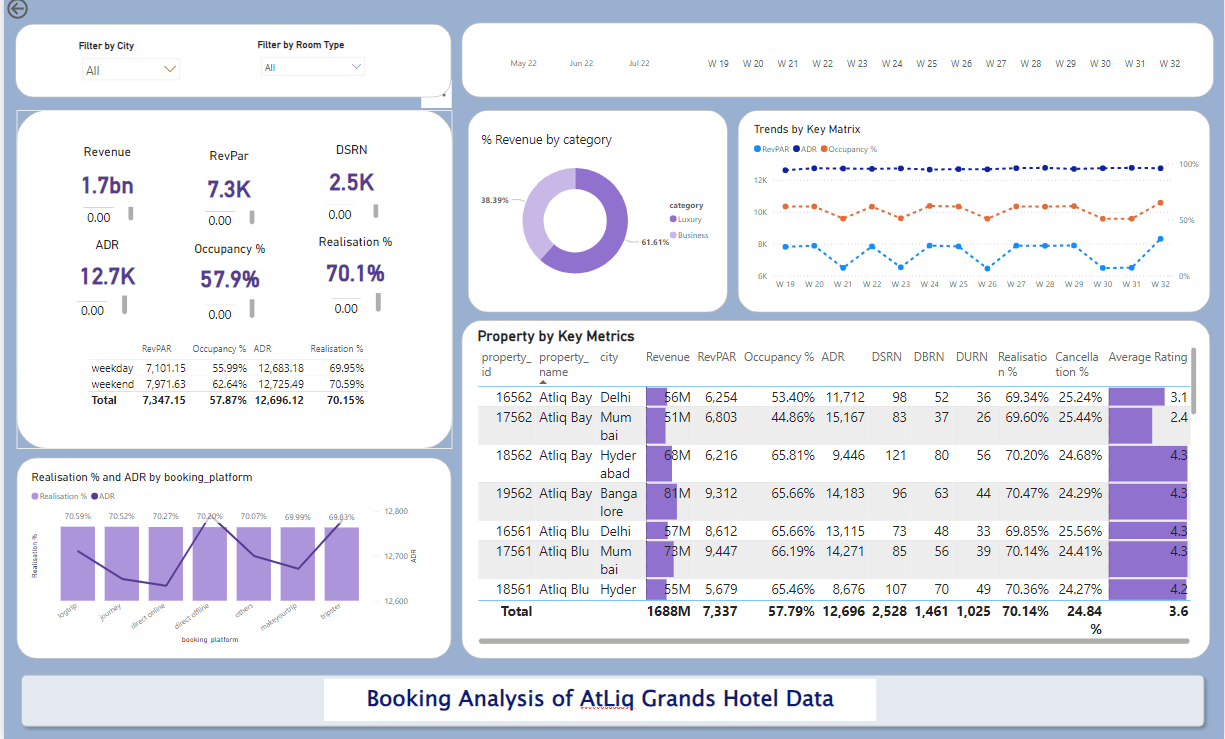

The dashboard page shown, as its layout file describes it:
{"tool":"powerbi","page":{"name":"Page 1","canvas":[1800,1100],"ordinal":0},"visuals":[{"type":"shape","box":[674.6,479.2,1104.1,499.5],"z":0},{"type":"shape","box":[1081.9,169.6,696.7,298.6],"z":1000},{"type":"shape","box":[683.8,169.6,383.4,298.6],"z":2000},{"type":"shape","box":[18.4,682,641.4,296.8],"z":3000},{"type":"shape","box":[18.4,169.6,643.3,499.5],"z":4000},{"type":"shape","box":[674.6,40.5,1109.6,110.6],"z":5000},{"type":"shape","box":[16.6,42.4,643.3,108.7],"z":6000},{"type":"tableEx","title":"Property by Key Metrics","fields":{"Values":["dim_hotels.property_id","dim_hotels.property_name","dim_hotels.city","key_measures.Revenue","key_measures.RevPAR","key_measures.Occupancy %","key_measures.ADR","key_measures.DSRN","key_measures.DBRN","key_measures.DURN","key_measures.Realisation %","key_measures.Cancellation %"]},"box":[693,490.3,1070.9,471.9],"z":7000},{"type":"slicer","title":"Filter by City","fields":{"Values":["dim_hotels.city"]},"box":[105.1,66.4,164,75.6],"z":8000},{"type":"actionButton","box":[0,0,100,40],"z":9000},{"type":"donutChart","title":"% Revenue by category","fields":{"Category":["dim_hotels.category"],"Y":["key_measures.Revenue"]},"box":[698.6,199.1,355.7,248.8],"z":10000},{"type":"lineChart","title":"Trends by Key Matrix","fields":{"Category":["dim_date.mmm yy.Variation.Date Hierarchy.Month","dim_date.week no"],"Y":["key_measures.RevPAR","key_measures.ADR"],"Y2":["key_measures.Occupancy %"]},"box":[1100.4,188,667.2,256.2],"z":11000},{"type":"tableEx","fields":{"Values":["dim_date.day_type","key_measures.RevPAR","key_measures.Occupancy %","key_measures.ADR","key_measures.Realisation %"]},"box":[118,506.9,466.3,129],"z":12000},{"type":"tableEx","title":"Rev WoW","fields":{"Values":["key_measures.\"DSRN WoW change %"]},"box":[102.1,420.4,85.9,59.8],"z":13000},{"type":"tableEx","title":"Rev WoW","fields":{"Values":["key_measures.\"DSRN WoW change %"]},"box":[288.9,426.3,85.9,59.8],"z":14000},{"type":"tableEx","title":"Rev WoW","fields":{"Values":["key_measures.\"DSRN WoW change %"]},"box":[475.8,417.4,85.9,59.8],"z":15000},{"type":"card","title":"Realisation %","fields":{"Values":["key_measures.Realisation %"]},"box":[441.3,353.9,155.1,85.9],"z":16000},{"type":"card","title":"Occupancy %","fields":{"Values":["key_measures.Occupancy %"]},"box":[259,362.7,145.7,85.9],"z":17000},{"type":"card","title":"ADR","fields":{"Values":["key_measures.ADR"]},"box":[82,356.8,142,85.9],"z":18000},{"type":"slicer","title":"Filter by Room Type","fields":{"Values":["dim_rooms.room_class"]},"box":[368.6,64.5,173.3,73.7],"z":19000},{"type":"slicer","fields":{"Values":["dim_date.mmm yy"]},"box":[698.6,64.5,304.1,71.9],"z":20000},{"type":"slicer","fields":{"Values":["dim_date.week no"]},"box":[1002.7,64.5,764.9,73.7],"z":21000},{"type":"tableEx","title":"Rev WoW","fields":{"Values":["key_measures.\"DSRN WoW change %"]},"box":[110,282.1,85.9,59.8],"z":22000},{"type":"card","title":"Revenue","fields":{"Values":["key_measures.Revenue"]},"box":[82,220.5,142,91.5],"z":23000},{"type":"tableEx","title":"Rev WoW","fields":{"Values":["key_measures.\"DSRN WoW change %"]},"box":[288.9,288,85.9,59.8],"z":24000},{"type":"card","title":"RevPar","fields":{"Values":["key_measures.RevPAR"]},"box":[269.3,226.4,125.2,91.5],"z":25000},{"type":"tableEx","title":"Rev WoW","fields":{"Values":["key_measures.\"DSRN WoW change %"]},"box":[466.7,279.2,91.5,59.8],"z":26000},{"type":"card","title":"DSRN","fields":{"Values":["key_measures.DSRN"]},"box":[440.6,217.5,143.9,91.5],"z":27000},{"type":"lineStackedColumnComboChart","fields":{"Category":["fact_bookings.booking_platform"],"Y":["key_measures.Realisation %"],"Y2":["key_measures.ADR"]},"box":[35,700,580.6,261.7],"z":28000},{"type":"shape","box":[16.6,993.5,1762.1,94],"z":29000},{"type":"textbox","box":[471.9,1008.2,814.7,62.7],"z":30000}]}

Visuals, with their boxes in screenshot pixels (x1, y1, x2, y2), scaled from the page's 1800x1100 canvas onto the 1225x739 screenshot:
shape: (left=459, top=322, right=1211, bottom=658)
shape: (left=736, top=114, right=1210, bottom=315)
shape: (left=465, top=114, right=726, bottom=315)
shape: (left=13, top=458, right=449, bottom=658)
shape: (left=13, top=114, right=450, bottom=450)
shape: (left=459, top=27, right=1214, bottom=102)
shape: (left=11, top=28, right=449, bottom=102)
"Property by Key Metrics" tableEx: (left=472, top=329, right=1200, bottom=646)
"Filter by City" slicer: (left=72, top=45, right=183, bottom=95)
actionButton: (left=0, top=0, right=68, bottom=27)
"% Revenue by category" donutChart: (left=475, top=134, right=718, bottom=301)
"Trends by Key Matrix" lineChart: (left=749, top=126, right=1203, bottom=298)
tableEx - dim_date.day_type x key_measures.RevPAR: (left=80, top=341, right=398, bottom=427)
"Rev WoW" tableEx: (left=69, top=282, right=128, bottom=323)
"Rev WoW" tableEx: (left=197, top=286, right=255, bottom=327)
"Rev WoW" tableEx: (left=324, top=280, right=382, bottom=321)
"Realisation %" card: (left=300, top=238, right=406, bottom=295)
"Occupancy %" card: (left=176, top=244, right=275, bottom=301)
"ADR" card: (left=56, top=240, right=152, bottom=297)
"Filter by Room Type" slicer: (left=251, top=43, right=369, bottom=93)
slicer - dim_date.mmm yy: (left=475, top=43, right=682, bottom=92)
slicer - dim_date.week no: (left=682, top=43, right=1203, bottom=93)
"Rev WoW" tableEx: (left=75, top=190, right=133, bottom=230)
"Revenue" card: (left=56, top=148, right=152, bottom=210)
"Rev WoW" tableEx: (left=197, top=193, right=255, bottom=234)
"RevPar" card: (left=183, top=152, right=268, bottom=214)
"Rev WoW" tableEx: (left=318, top=188, right=380, bottom=228)
"DSRN" card: (left=300, top=146, right=398, bottom=208)
lineStackedColumnComboChart - fact_bookings.booking_platform x key_measures.Realisation %: (left=24, top=470, right=419, bottom=646)
shape: (left=11, top=667, right=1211, bottom=731)
textbox: (left=321, top=677, right=876, bottom=719)
